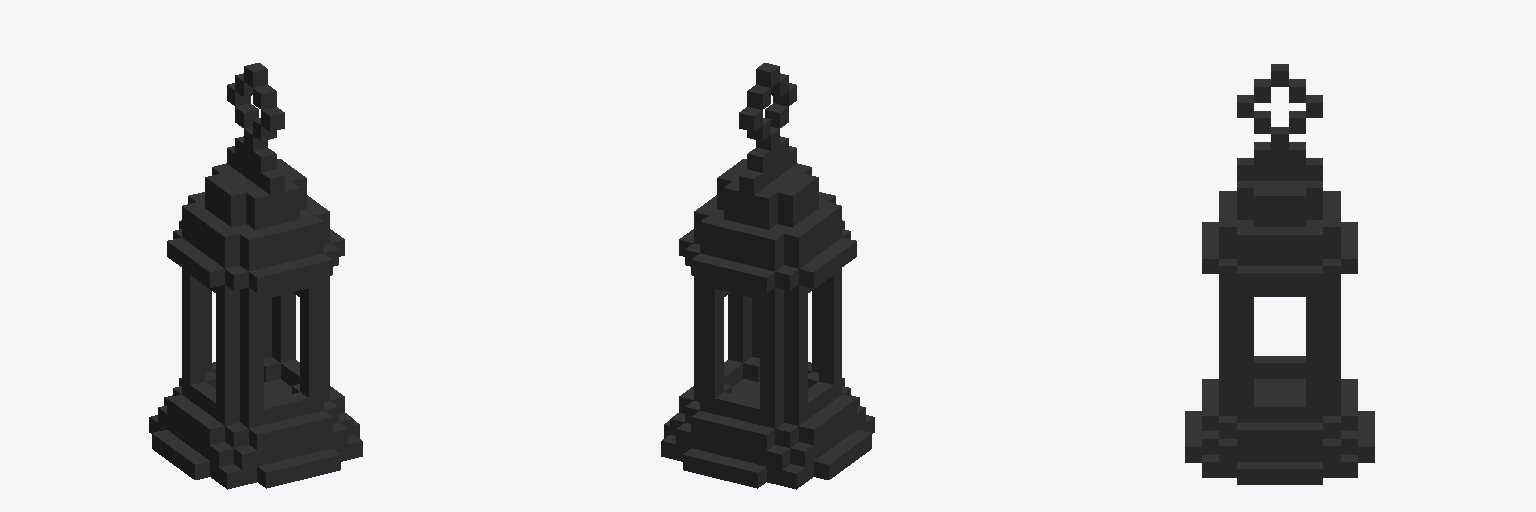
3 renders of one model, left to right at view 1: azimuth 30°, elevation 25°; view 2: azimuth 150°, elevation 25°; view 3: azimuth 270°, elevation 25°, orthographic.
Bounding box in the file's own units: 11 × 24 × 11.
1 materials, 1 textured.